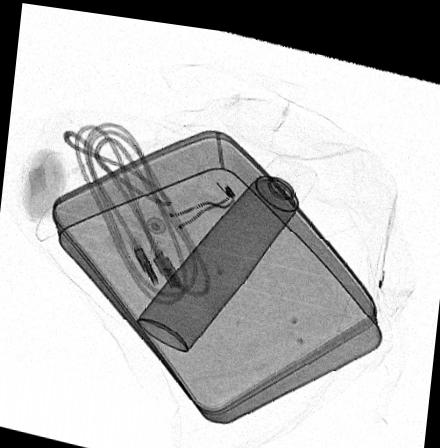Sprayer: (138, 146, 319, 347)
